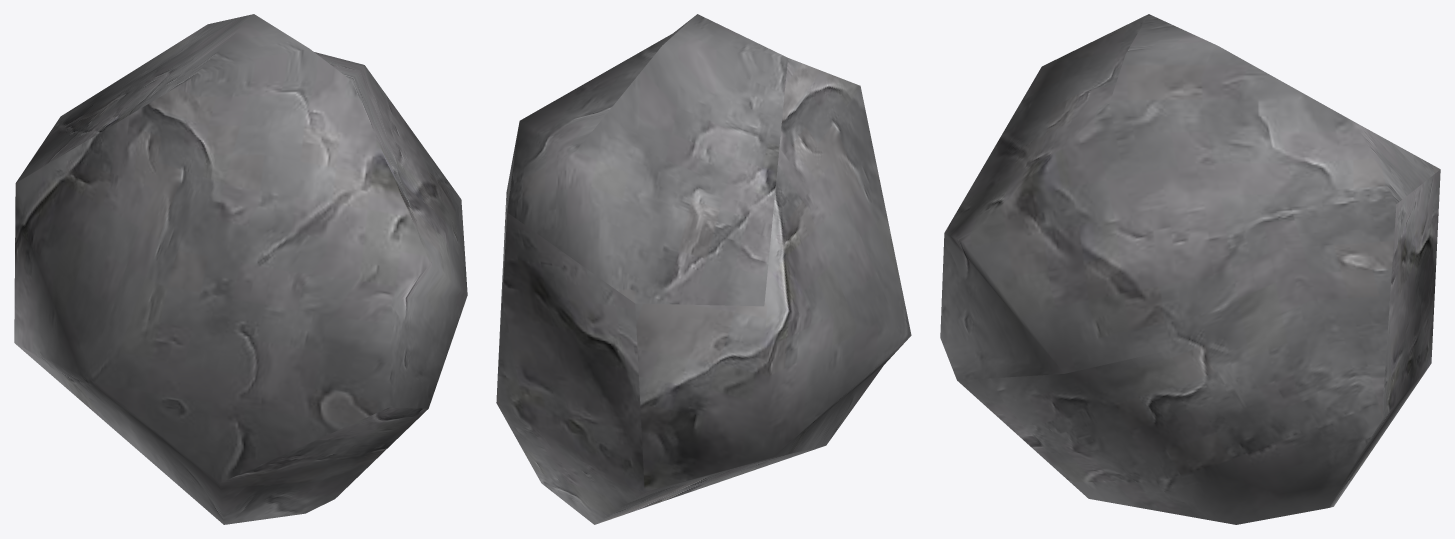
File: rocky6.fbx
The picture shows the model from 3 angles, left to right: view 1: azimuth 30°, elevation 25°; view 2: azimuth 150°, elevation 25°; view 3: azimuth 270°, elevation 25°; orthographic projection. The views are drawn at different scales.
Visible parts, largest first — view 1: rocky6; view 2: rocky6; view 3: rocky6.
Part boxes in pixels (x1=…): rocky6: x1=14, y1=14, x2=467, y2=524; rocky6: x1=496, y1=14, x2=911, y2=524; rocky6: x1=940, y1=14, x2=1440, y2=524.
Size of the model in its own units: 3.26 by 3.68 by 3.6.
Materials: 1 (1 with a texture image).
